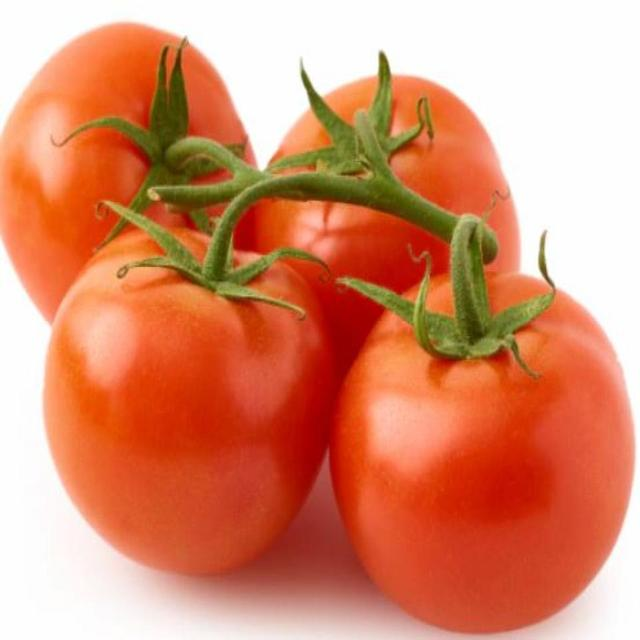Healthy Fruit: (95, 95, 325, 295)
